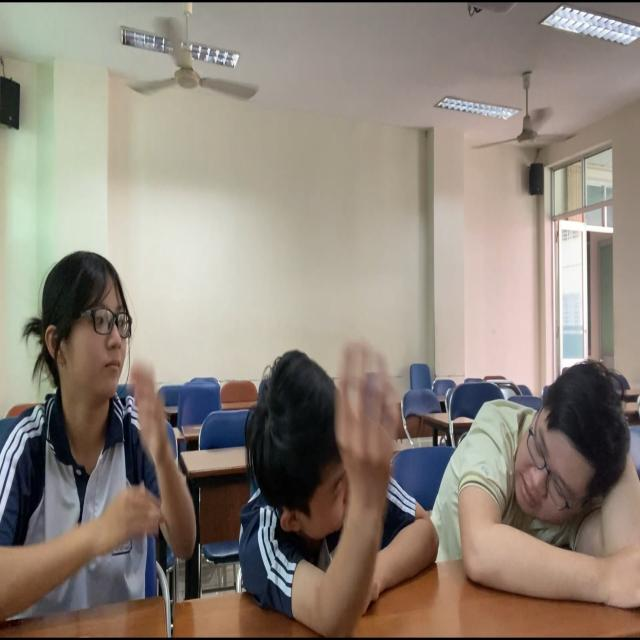sleep: (242, 330, 437, 618), (444, 351, 640, 605)
